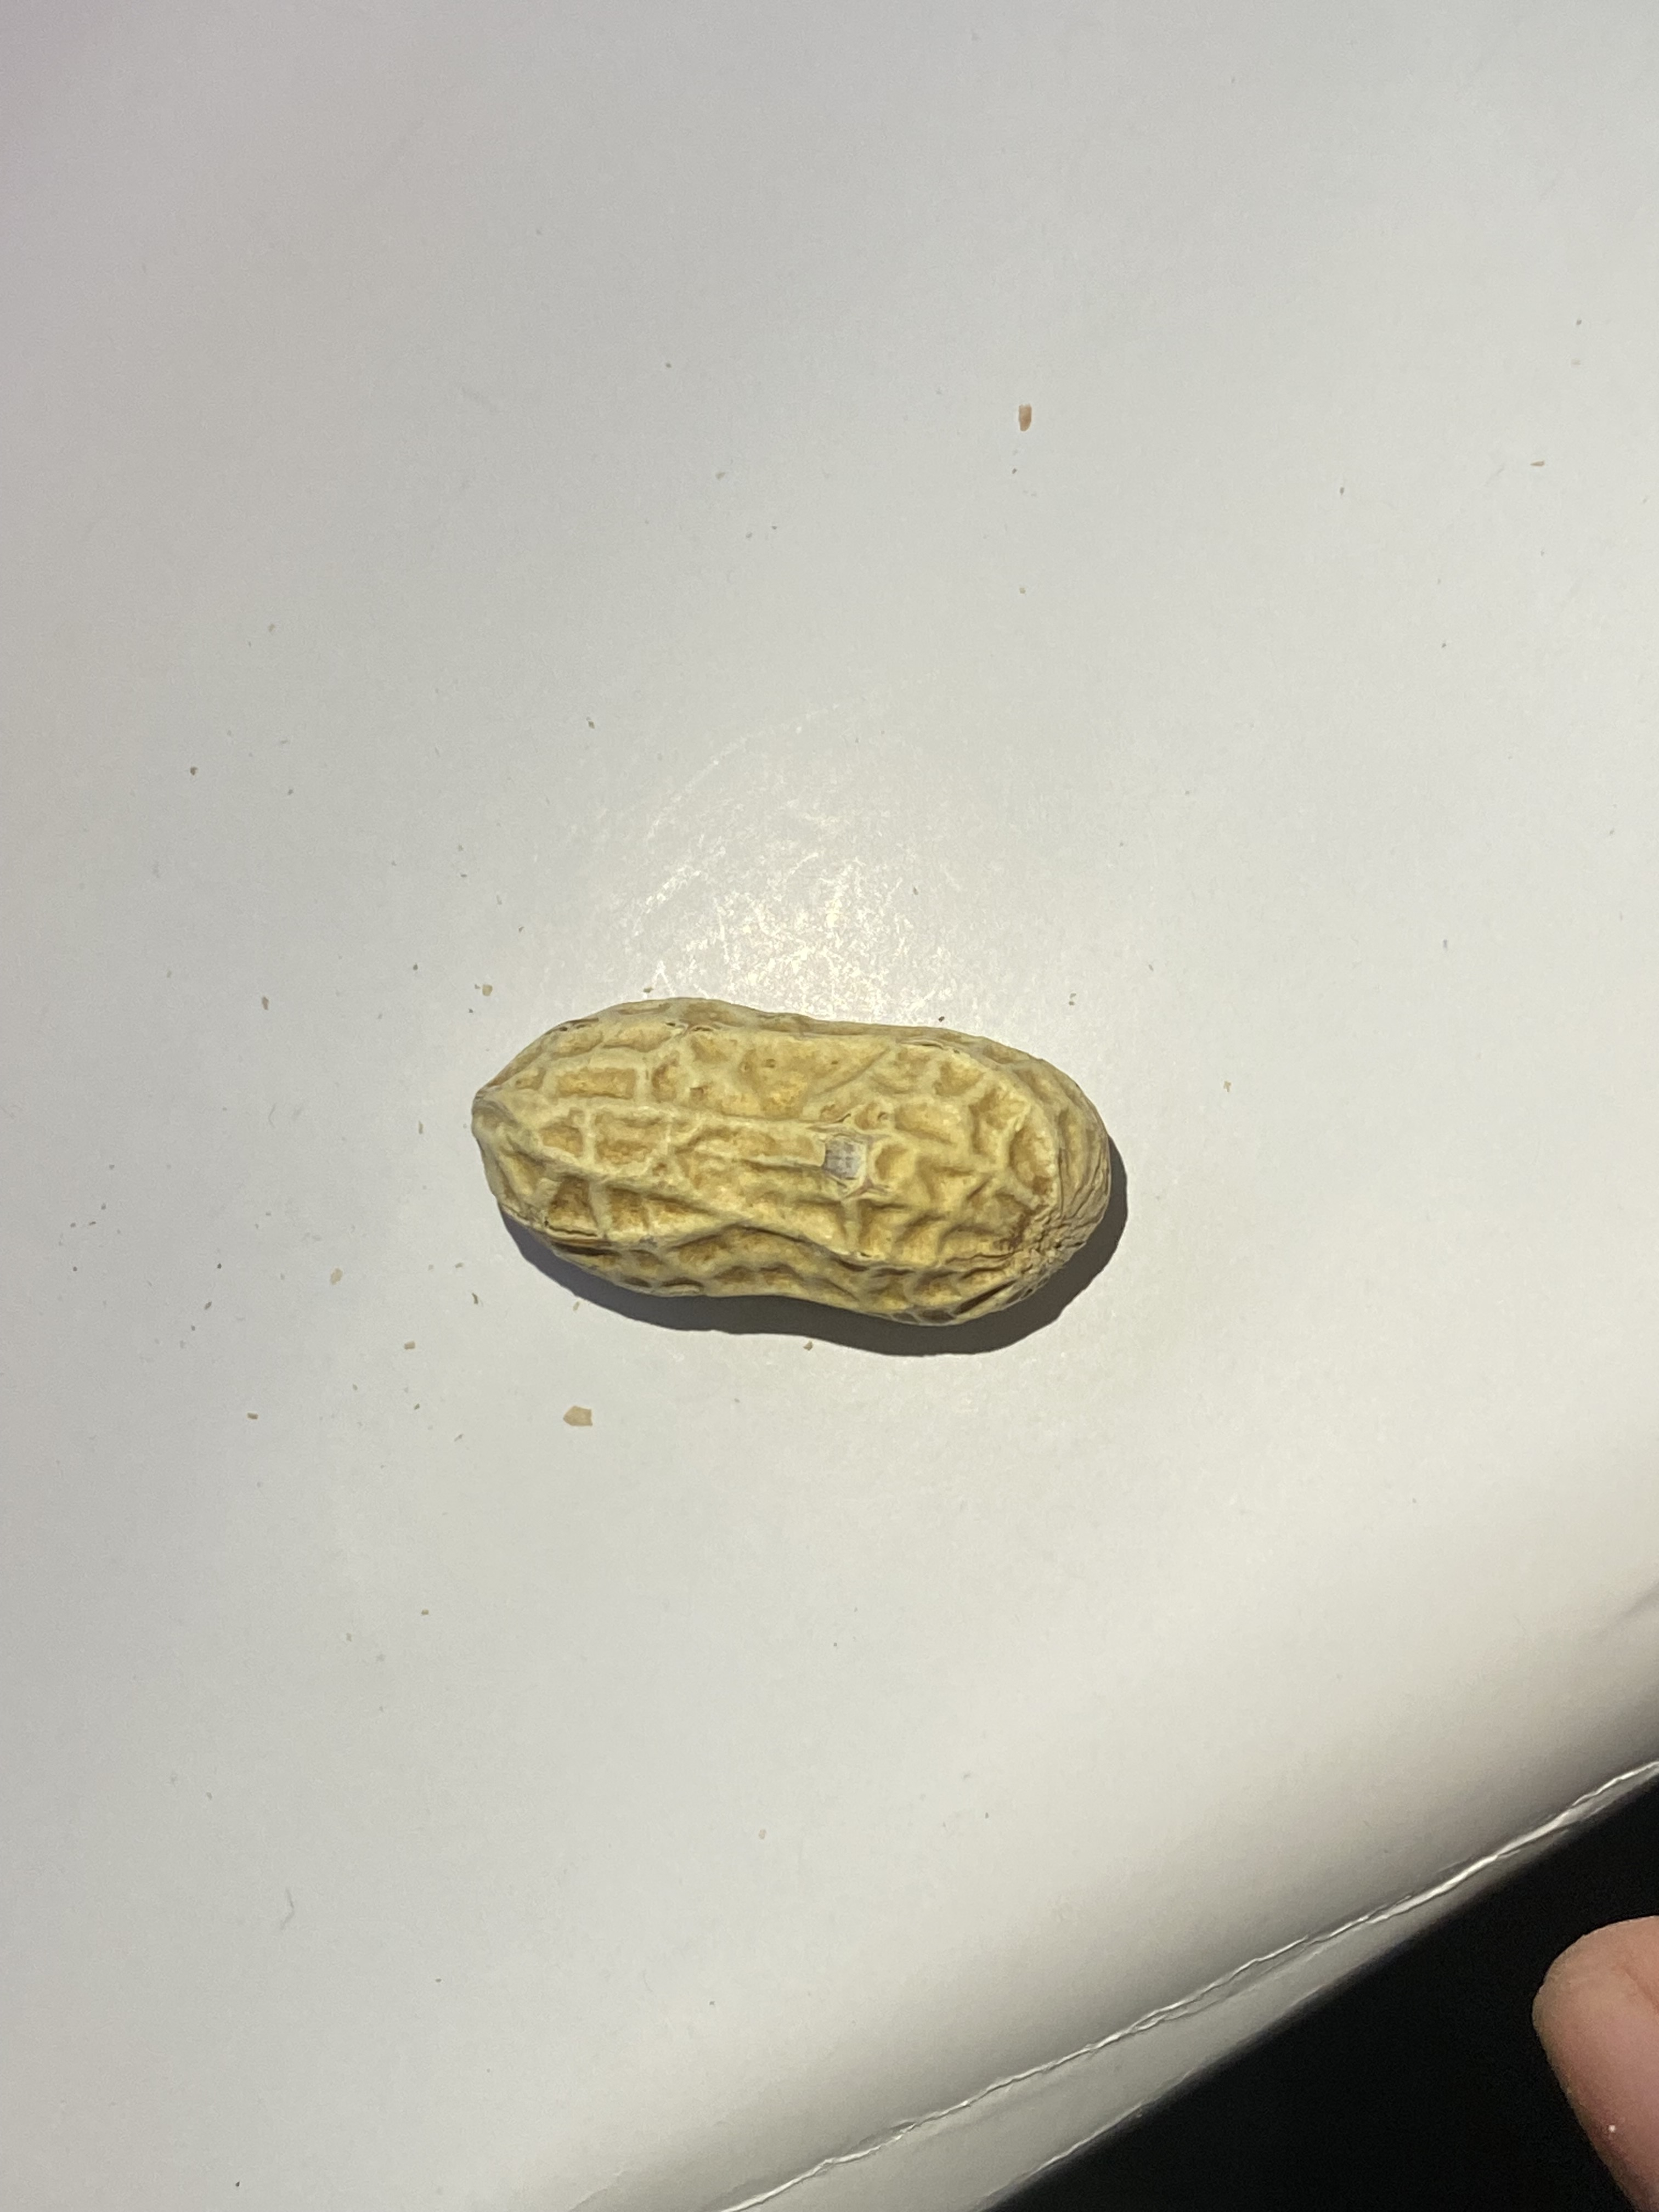kacang2: (416, 993, 1136, 1350)
